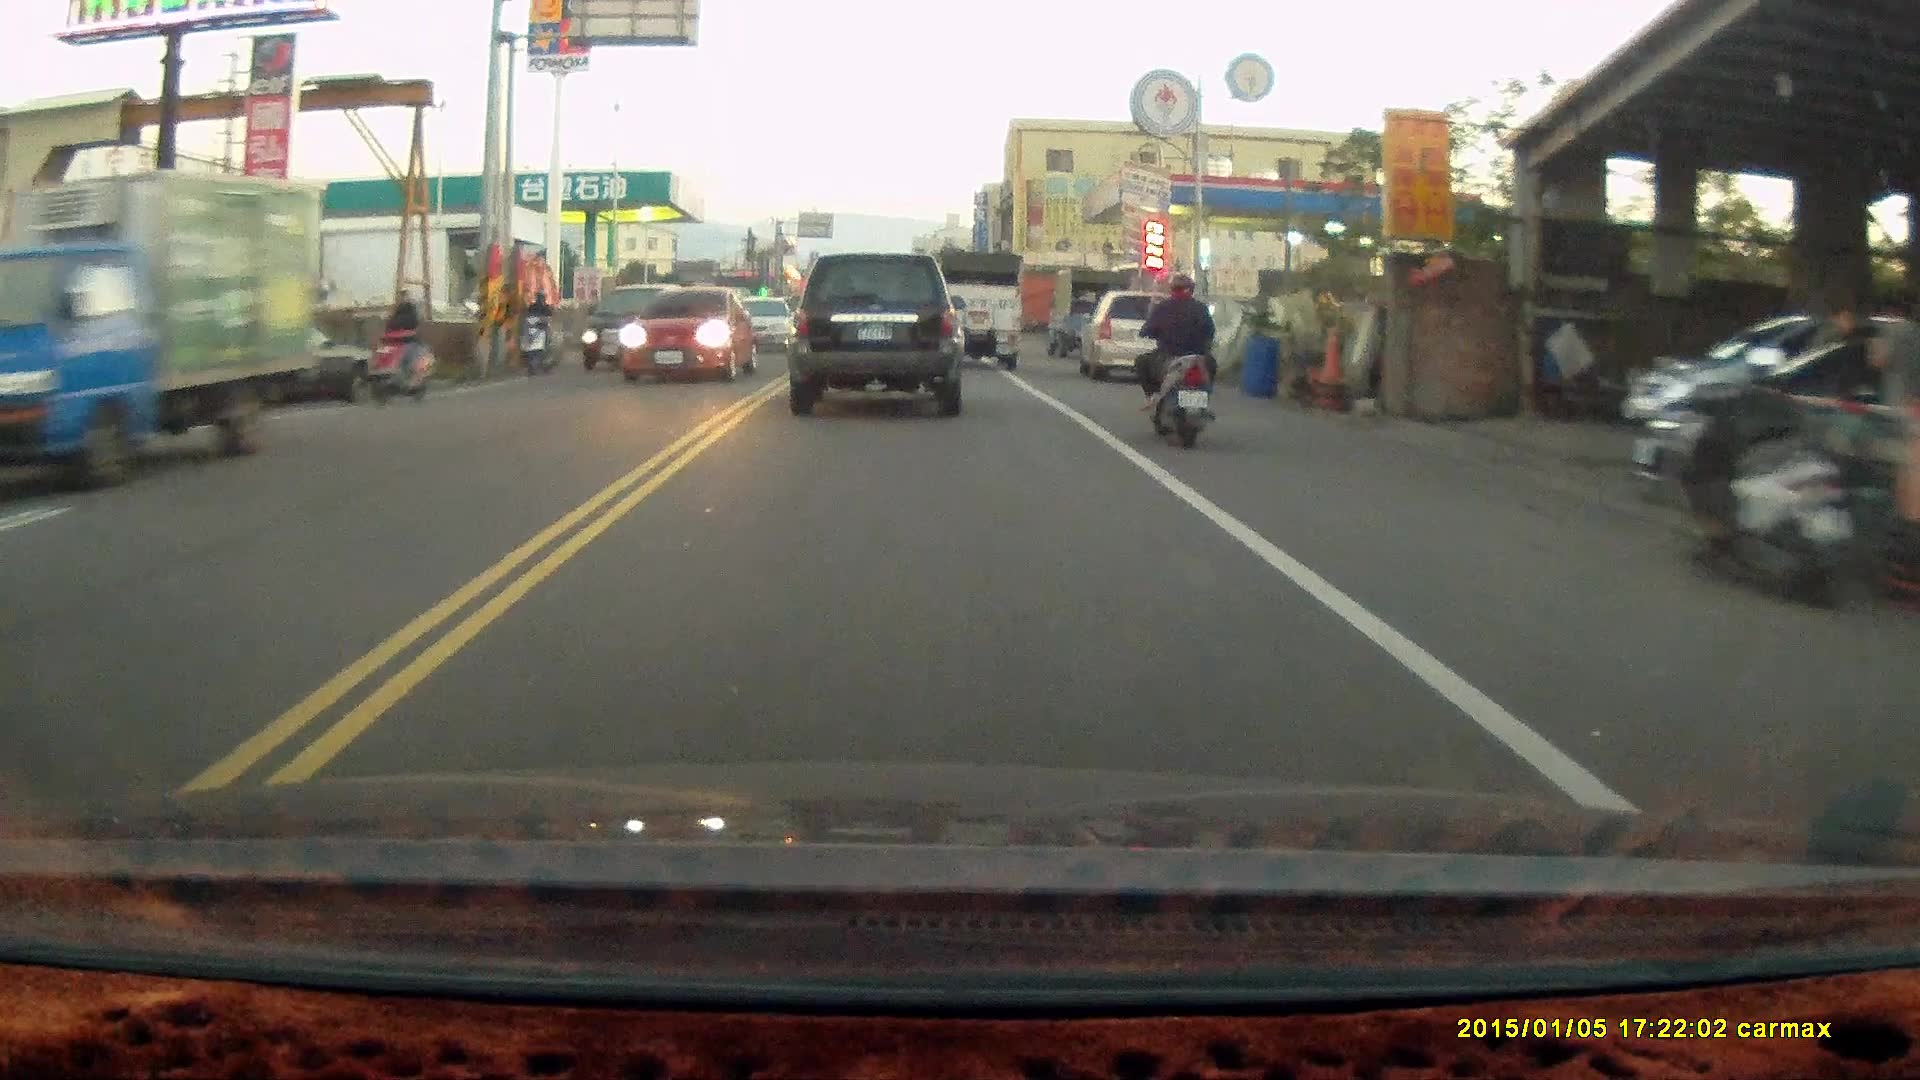pedestrian: (1868, 294, 1920, 454)
rider: (1135, 267, 1229, 446), (358, 287, 440, 405), (518, 288, 561, 374)
vehicle: (1, 160, 333, 484), (785, 251, 967, 419), (626, 284, 764, 386), (932, 246, 1024, 368), (1081, 286, 1195, 379), (581, 280, 687, 368)
